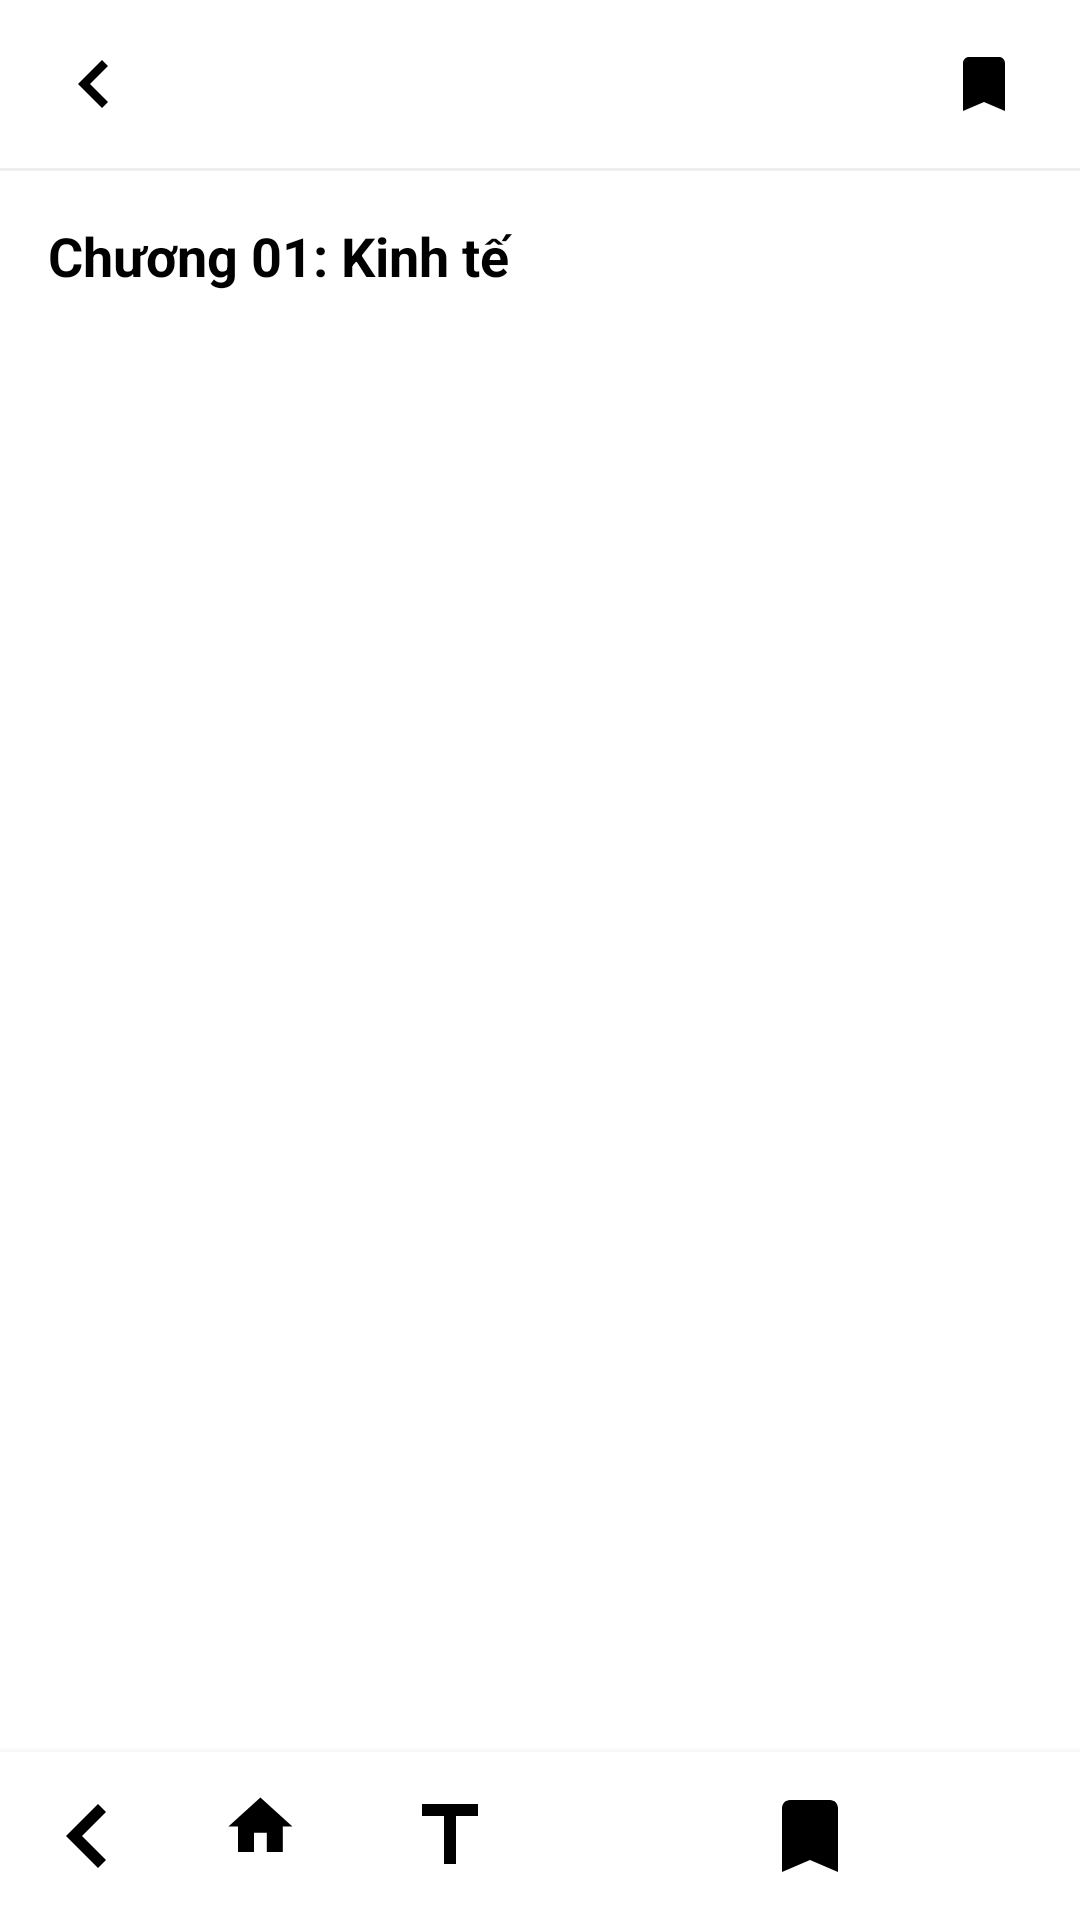

Screen size 1080px×1920px. Icon name, then its box in pixels as [x1, y1, x2, y2]:
Back: [78, 60, 108, 108]
Home: [228, 1797, 292, 1852]
Previous Chapter: [66, 1804, 106, 1868]
Text Size: [422, 1804, 478, 1864]
